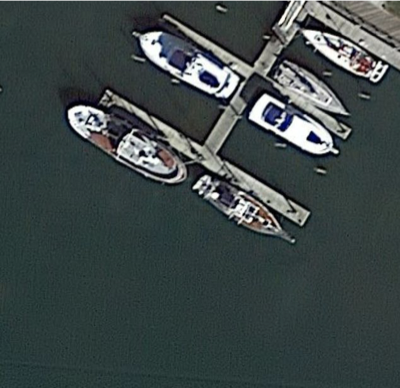boat: (64, 101, 188, 186), (130, 29, 242, 101), (193, 174, 299, 245), (248, 89, 338, 157), (270, 54, 352, 116), (299, 27, 384, 83)
